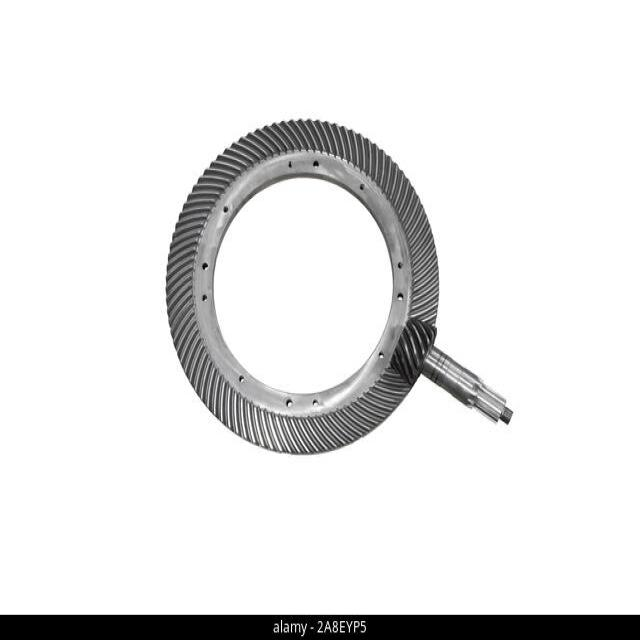Gear: (162, 116, 446, 462), (387, 315, 438, 394)
